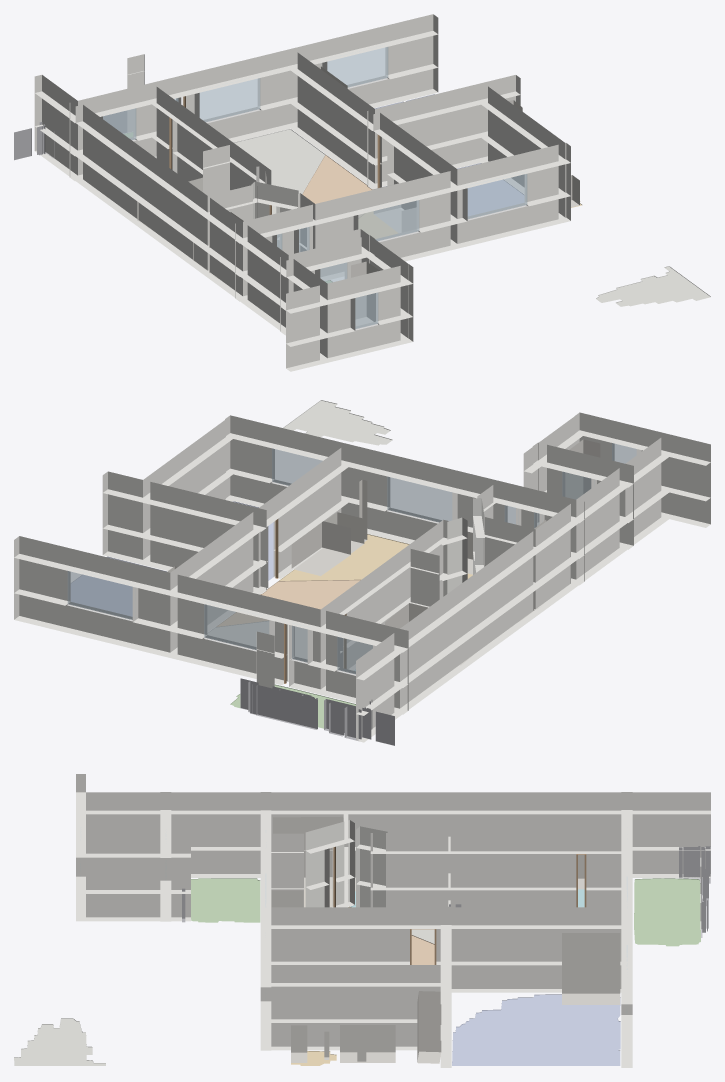
3 renders of one model, top to bottom at view 1: azimuth 30°, elevation 25°; view 2: azimuth 150°, elevation 25°; view 3: azimuth 270°, elevation 25°, orthographic. The views are drawn at different scales.
Parts seen in each view (by area): view 1: walls, floor_1_Undefined, floor_11_Undefined, window_2, window_5, floor_2_Living_Room, window_1, window_4, floor_5_Bed_Room, railings, furniture_4_closet, window_3 (+3 smaller); view 2: walls, railings, floor_11_Undefined, furniture_7_appliance, floor_3_Kitchen, window_4, floor_2_Living_Room, window_1, window_5, floor_10_Bed_Room, floor_1_Undefined, window_2 (+5 smaller); view 3: walls, floor_10_Bed_Room, floor_7_Outdoor, furniture_0_closet, floor_8_Outdoor, floor_11_Undefined, furniture_6_appliance, furniture_1_closet, railings, furniture_2_closet, furniture_10_appliance, floor_2_Living_Room (+1 smaller).
Boxes of the visible parts, <box> form: walls: <box>34,14,570,371</box>; floor_1_Undefined: <box>234,129,325,214</box>; floor_11_Undefined: <box>596,266,710,306</box>; window_2: <box>467,174,527,218</box>; window_5: <box>199,78,260,121</box>; floor_2_Living_Room: <box>302,154,373,217</box>; window_1: <box>358,200,419,240</box>; window_4: <box>327,45,388,87</box>; floor_5_Bed_Room: <box>382,163,524,215</box>; railings: <box>14,111,126,160</box>; furniture_4_closet: <box>351,261,379,325</box>; window_3: <box>355,290,378,328</box>; walls: <box>14,412,710,742</box>; railings: <box>240,678,394,745</box>; floor_11_Undefined: <box>283,400,392,445</box>; furniture_7_appliance: <box>291,521,350,576</box>; floor_3_Kitchen: <box>279,534,472,580</box>; window_4: <box>67,569,132,619</box>; floor_2_Living_Room: <box>216,579,360,626</box>; window_1: <box>387,477,452,522</box>; window_5: <box>204,602,269,649</box>; floor_10_Bed_Room: <box>71,556,166,616</box>; floor_1_Undefined: <box>207,621,307,681</box>; window_2: <box>272,448,322,485</box>; walls: <box>76,774,710,1067</box>; floor_10_Bed_Room: <box>452,994,620,1065</box>; floor_7_Outdoor: <box>634,878,700,946</box>; furniture_0_closet: <box>562,933,620,1004</box>; floor_8_Outdoor: <box>191,878,260,922</box>; floor_11_Undefined: <box>14,1018,105,1065</box>; furniture_6_appliance: <box>340,1025,395,1062</box>; furniture_1_closet: <box>417,991,441,1063</box>; railings: <box>182,846,710,937</box>; furniture_2_closet: <box>273,816,343,889</box>; furniture_10_appliance: <box>291,1025,307,1062</box>; floor_2_Living_Room: <box>411,935,434,964</box>.
Size of the model in its own units: 15.02 by 2.72 by 20.86.
